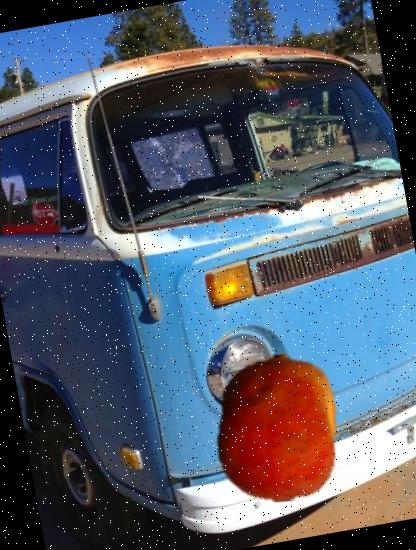Peach: (192, 343, 363, 514)
